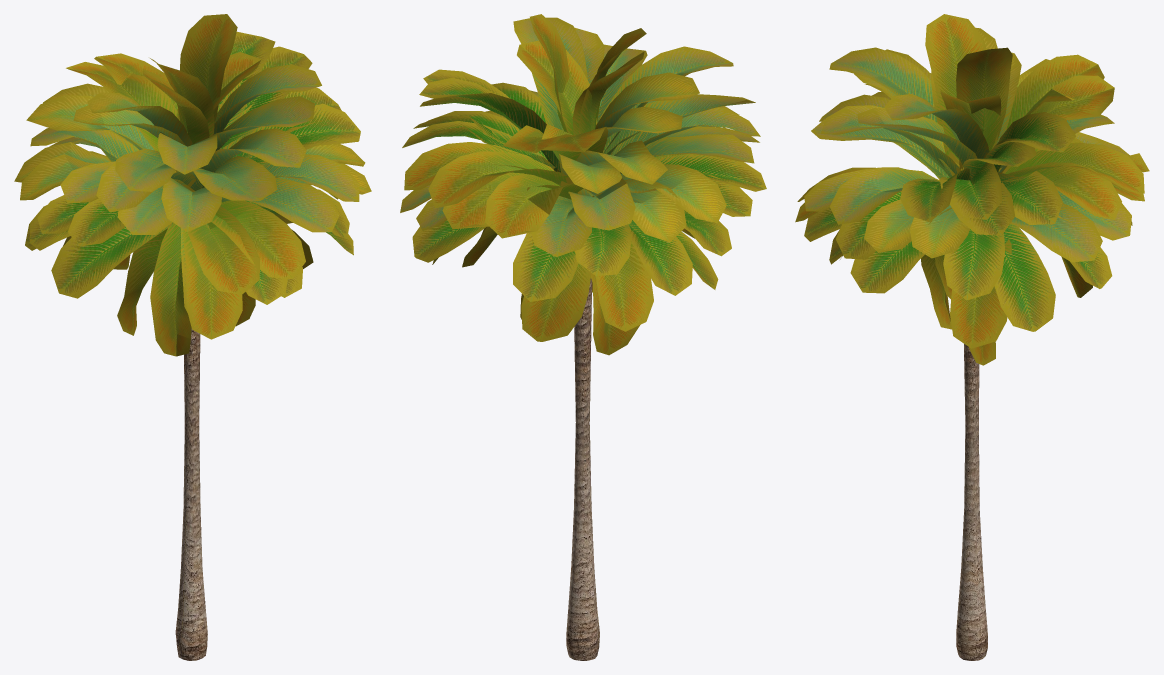
The model's file is palm.glb.
3 renders of one model, left to right at view 1: azimuth 30°, elevation 25°; view 2: azimuth 150°, elevation 25°; view 3: azimuth 270°, elevation 25°, orthographic.
Parts seen in each view (by area): view 1: tree.001; view 2: tree.001; view 3: tree.001.
Part boxes in pixels (box(x1,y1,x2,y2)): tree.001: box(14, 14, 371, 660); tree.001: box(400, 14, 766, 660); tree.001: box(795, 14, 1149, 660).
Size of the model in its own units: 5.92 by 11.34 by 5.81.
2 materials, 2 textured.
